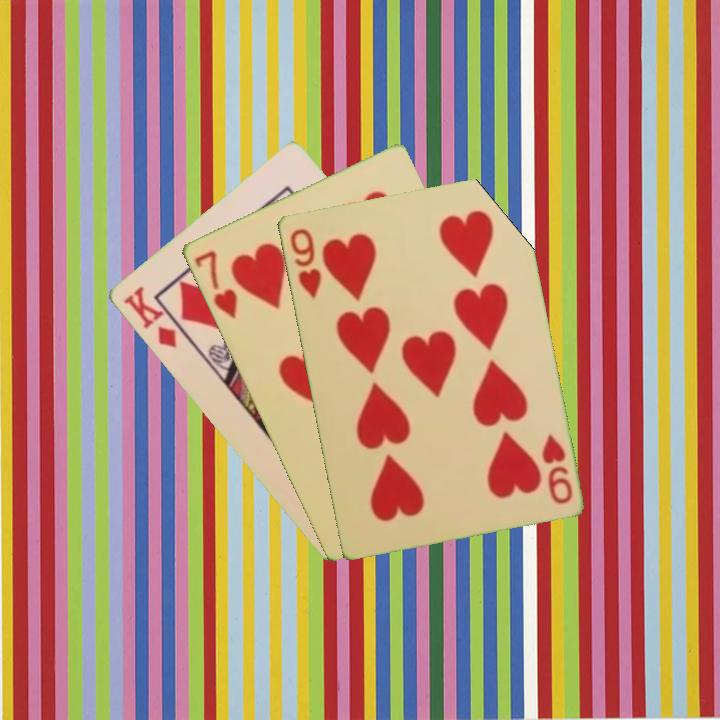7h: (190, 246, 240, 322)
9h: (537, 430, 575, 507), (286, 224, 324, 300)
Kd: (119, 282, 180, 352)
